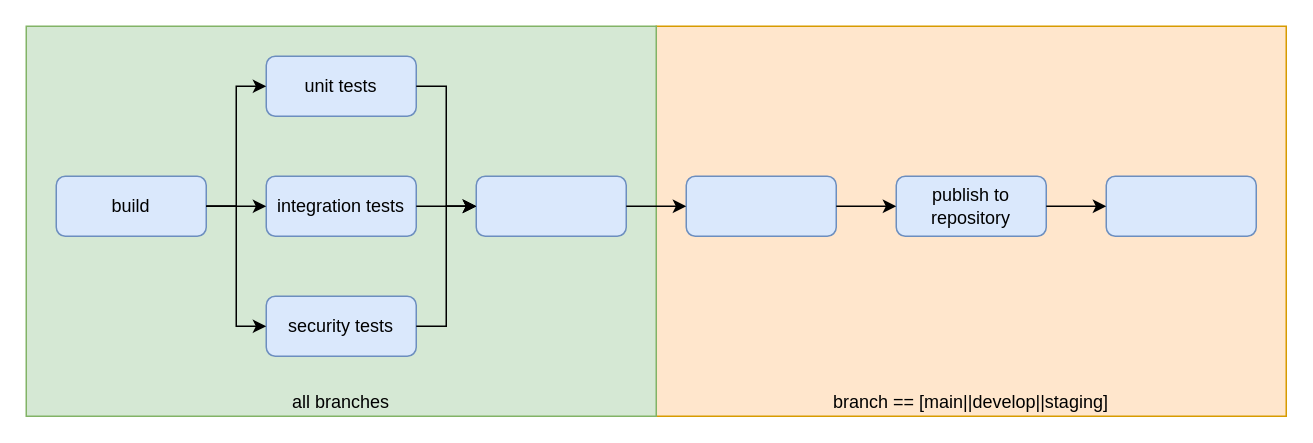
The diagram is 1313 pixels wide and 443 high, and some of its shapes have lost their labels. Each missing label, with the centre of its shape:
deploy: (x=1180, y=205)
package: (x=760, y=205)
static analysis: (x=550, y=205)
